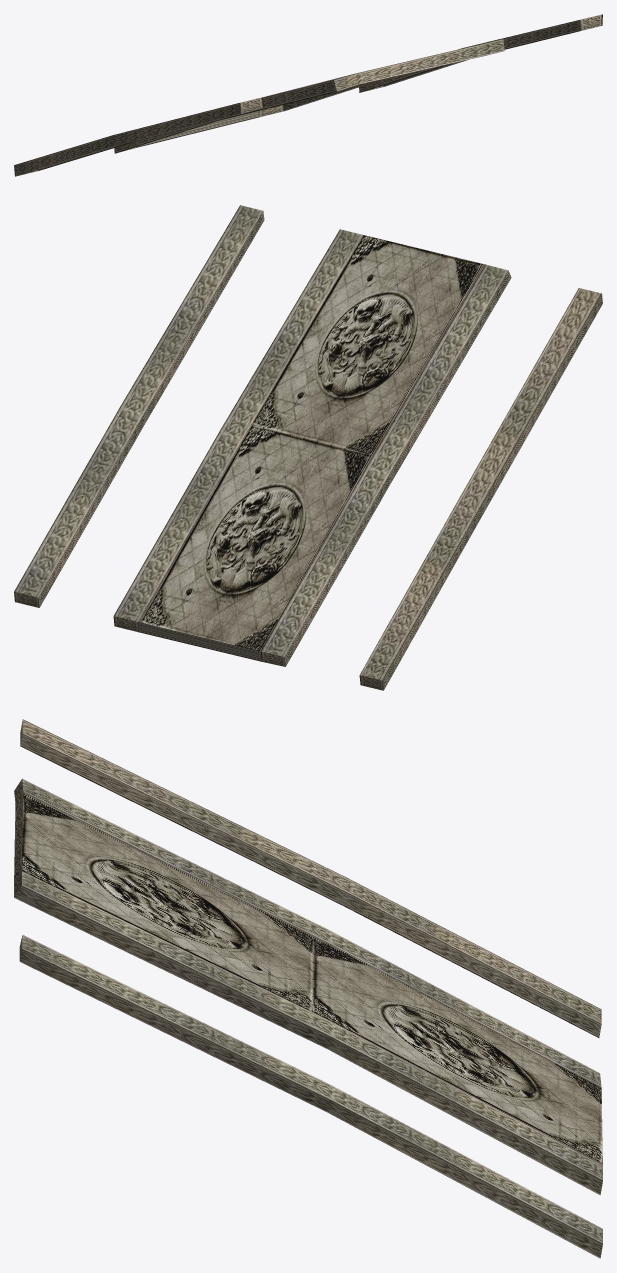
3 renders of one model, top to bottom at view 1: azimuth 30°, elevation 25°; view 2: azimuth 150°, elevation 25°; view 3: azimuth 270°, elevation 25°, orthographic. The views are drawn at different scales.
Visible parts, largest first — view 1: Box21321; view 2: Box21321; view 3: Box21321.
Boxes of the visible parts, <box> form: Box21321: <box>14,14,602,176</box>; Box21321: <box>14,205,602,690</box>; Box21321: <box>14,719,602,1258</box>.
Bounding box in the file's own units: 302 × 185 × 321.
